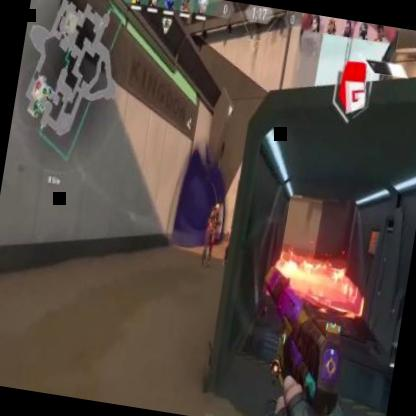enemy: (199, 202, 221, 270)
enemy_head: (213, 203, 220, 214)
